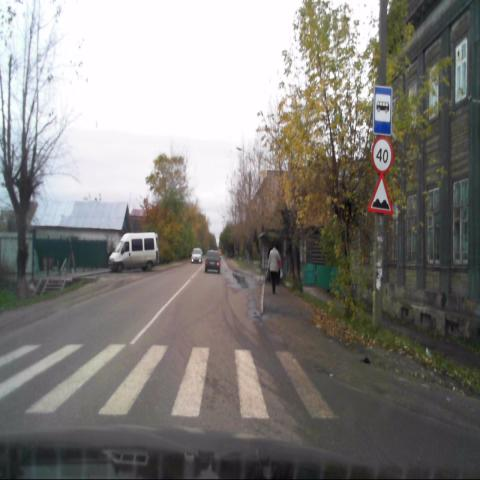1_16: (369, 176, 393, 216)
